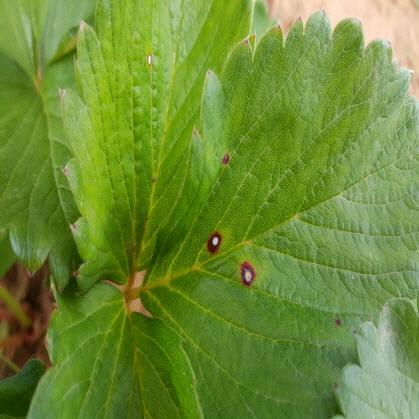Leaf Spot: (137, 9, 418, 418), (56, 0, 256, 297)
